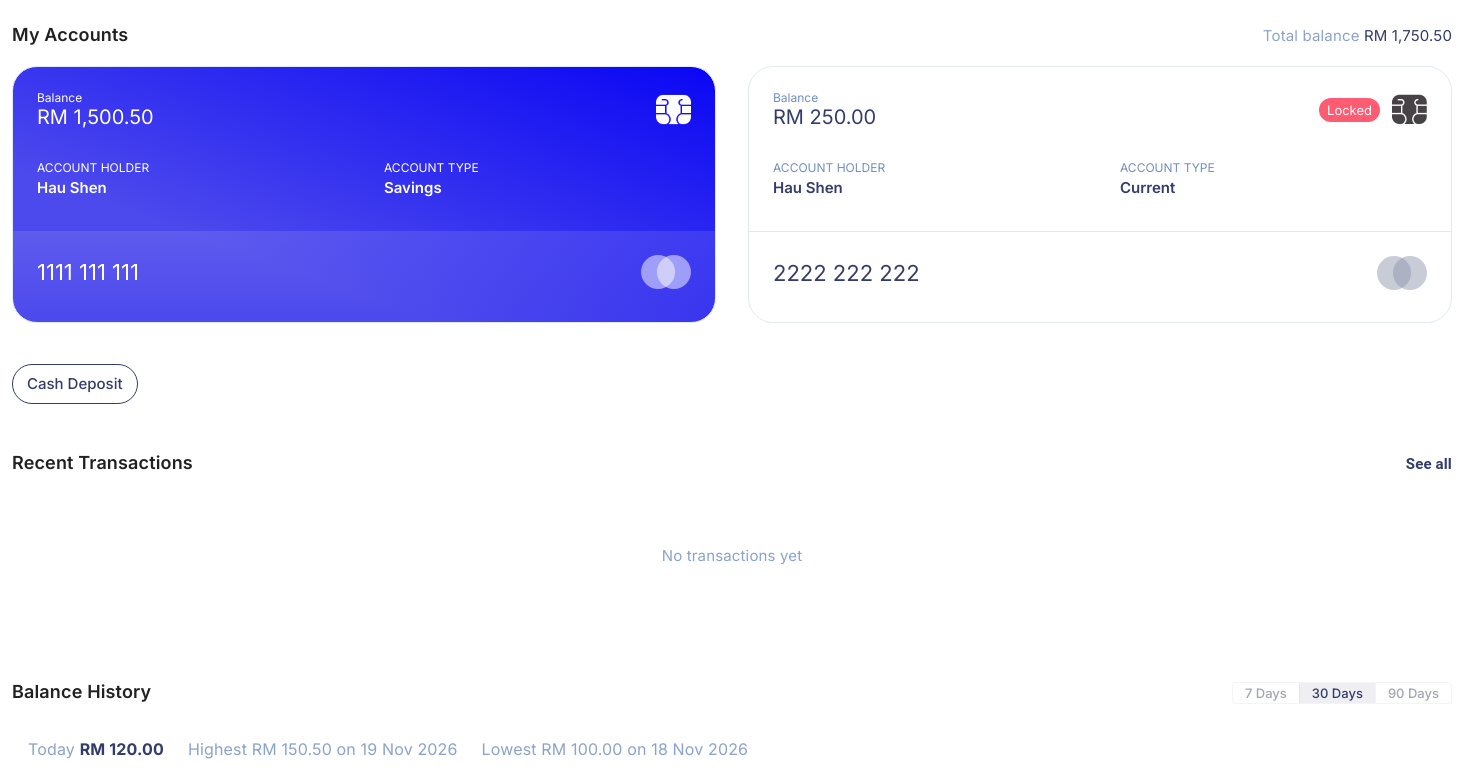
balance history › asks again for another period, and for the card the user picks
Expected: the text "Highest RM 150.50 on 19 Nov 2026" is shown, [188,740,458,759]
Click the button "7 days".
click(1266, 693)  # box [1232,682,1300,704]
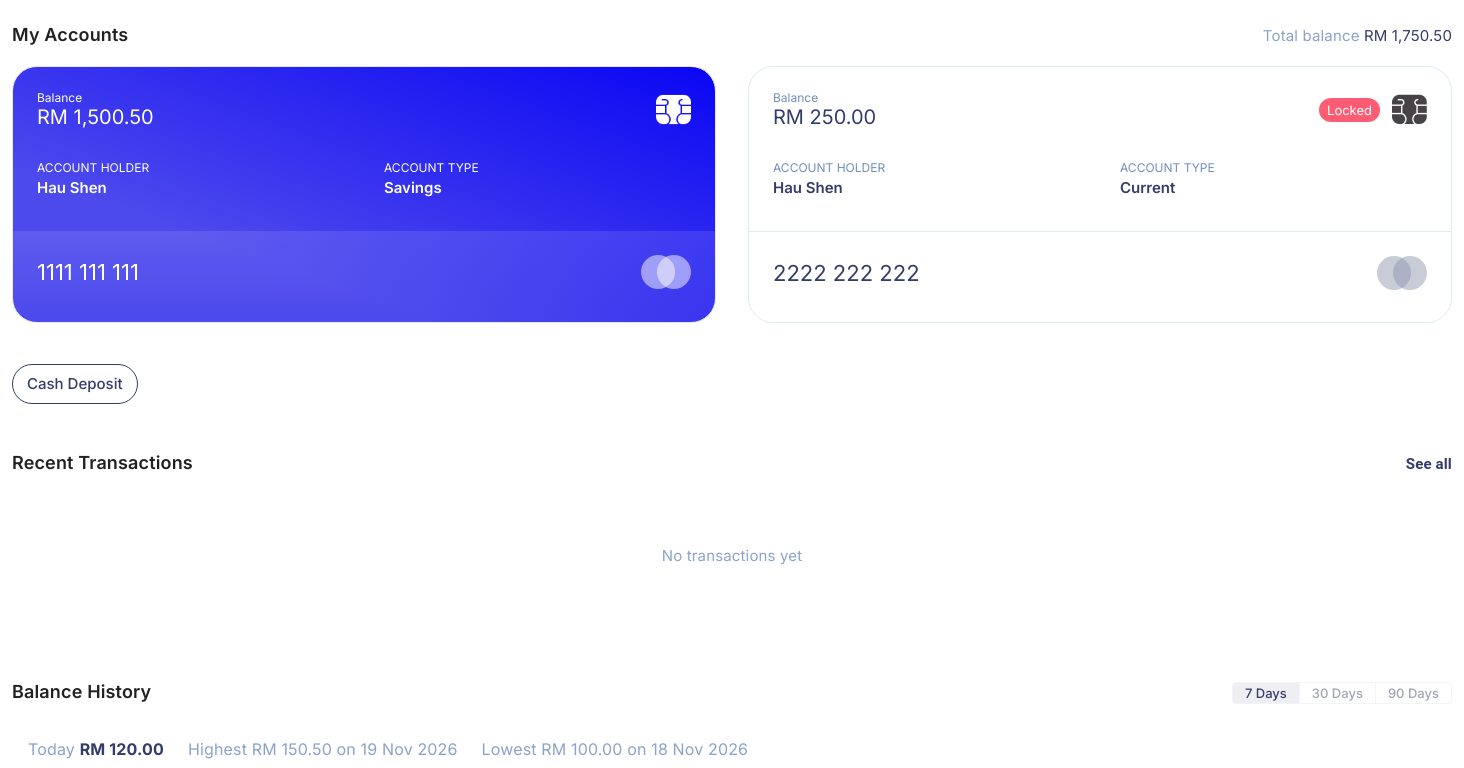
Click the button with aria-label "current account 2222222222".
click(1100, 195)  # box [749,67,1451,322]
(page scrolled)
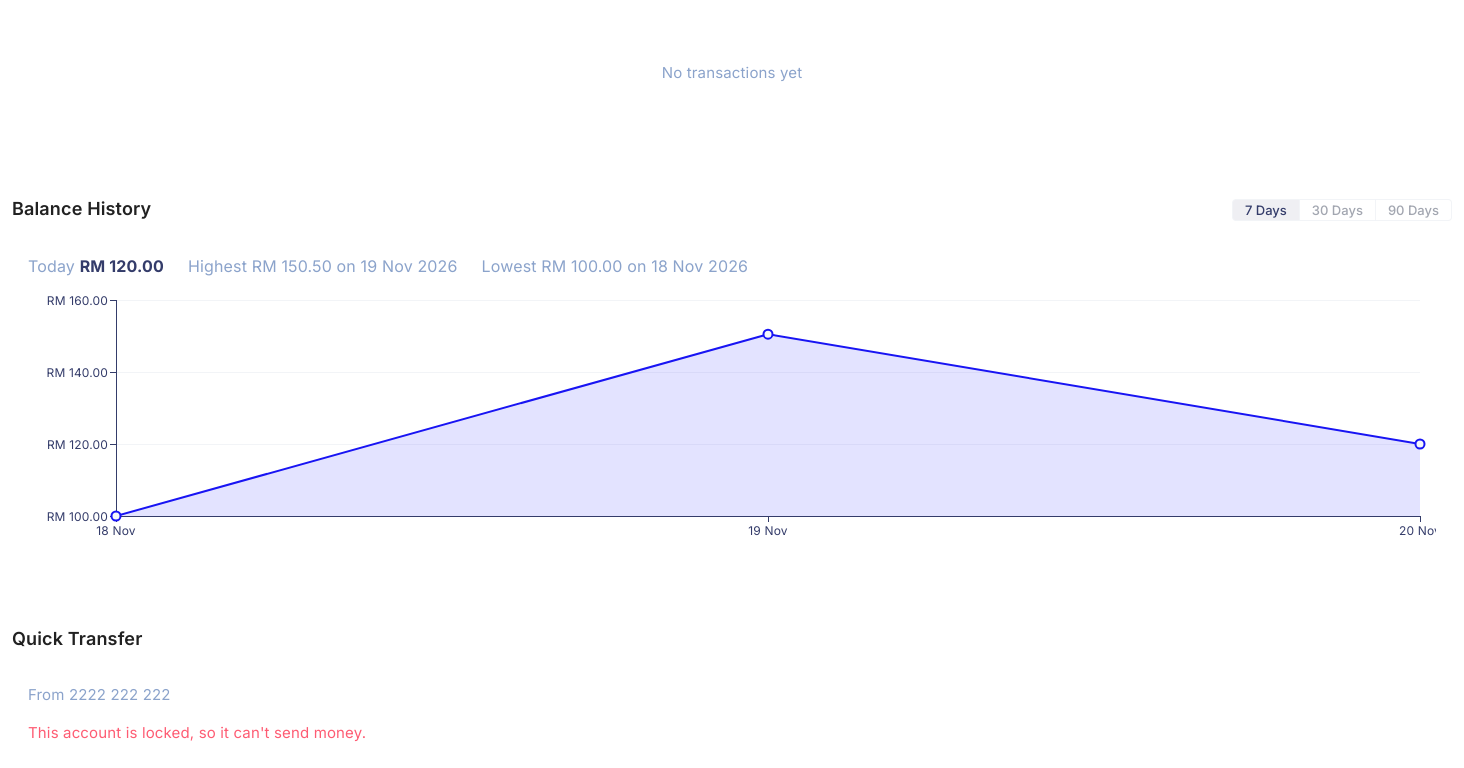
Result: the picture named "closing balance of 2222 222 222" is shown at [28,284,1436,544]
